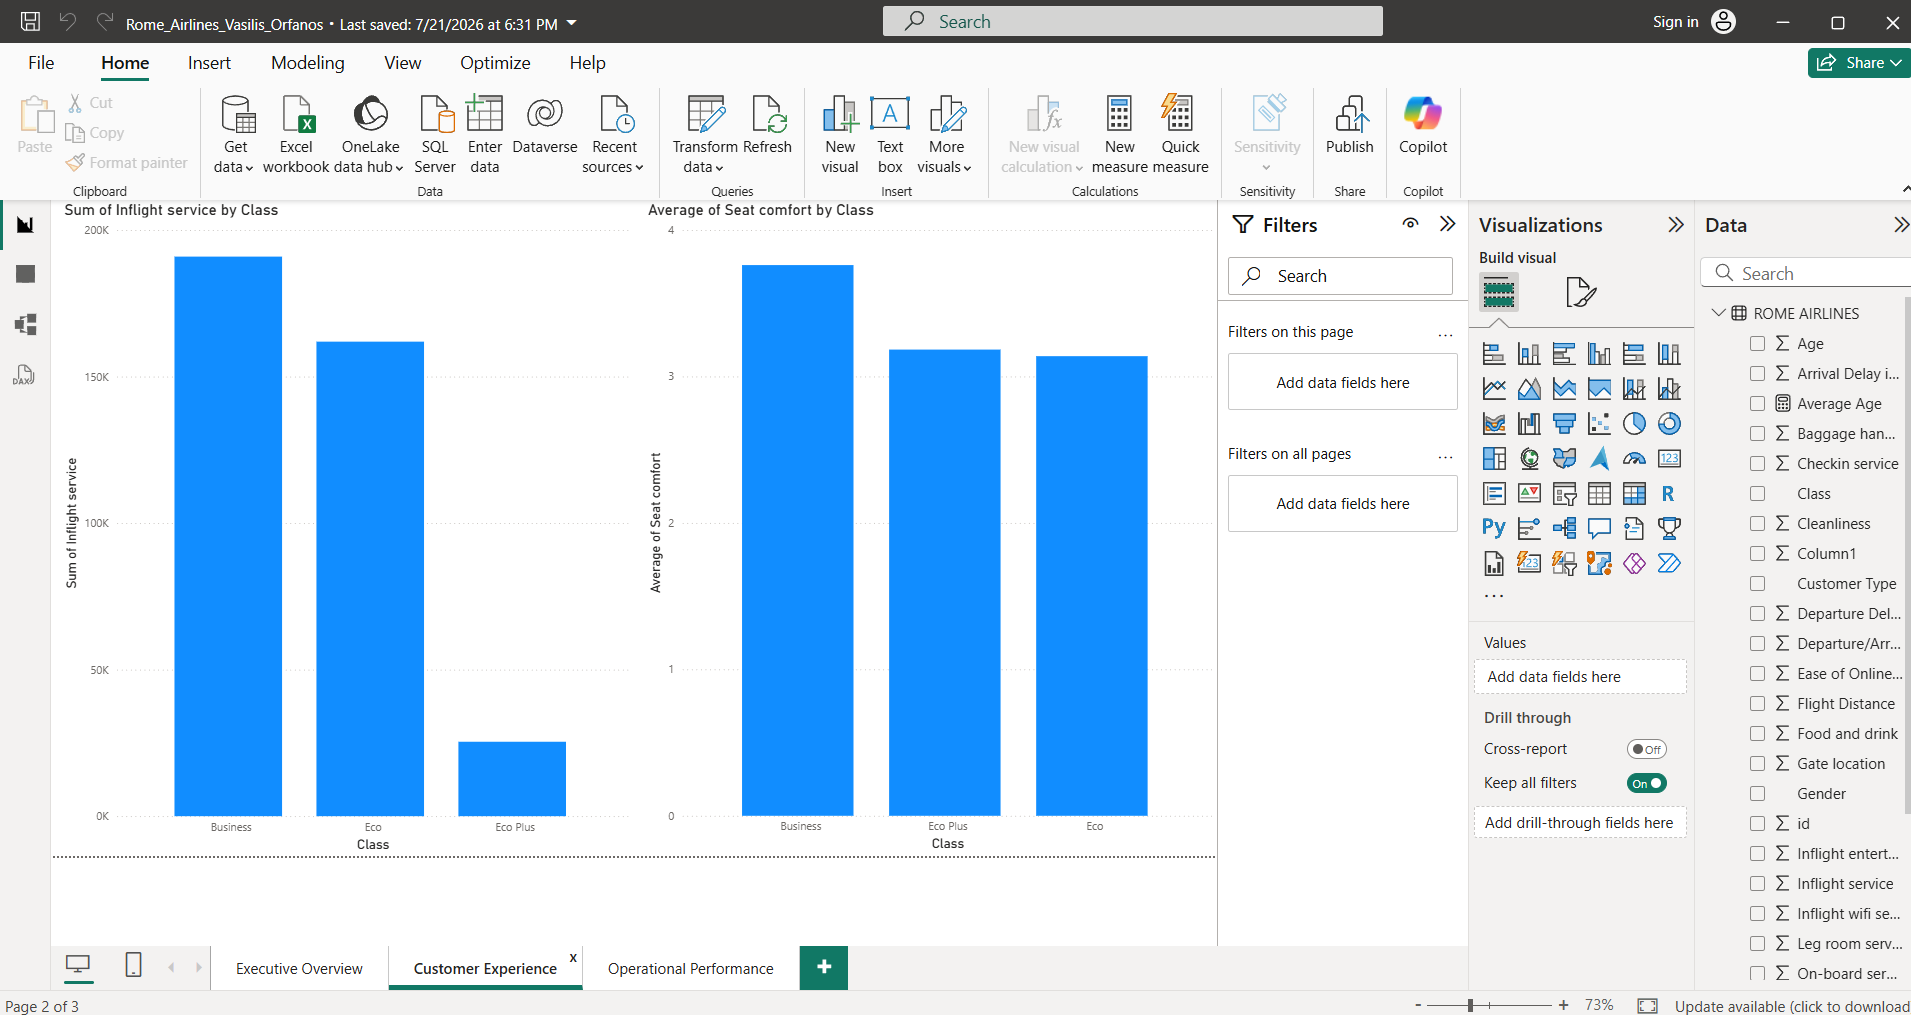

What the dashboard file says about the page in this screenshot:
{"tool":"powerbi","page":{"name":"Customer Experience","canvas":[1280,720],"ordinal":1},"visuals":[{"type":"clusteredColumnChart","fields":{"Category":["ROME AIRLINES.Class"],"Y":["Sum(ROME AIRLINES.Inflight service)"]},"box":[9.6,0,629.8,720.4],"z":0},{"type":"clusteredColumnChart","fields":{"Category":["ROME AIRLINES.Class"],"Y":["Avg(ROME AIRLINES.Seat comfort)"]},"box":[650,0,630,720],"z":1000}]}

Visuals, with their boxes on the page's 1280x720 design canvas (x1, y1, x2, y2). These are canvas units, not pixel positions in the 1911x1015 screenshot, which may show the page scaled, cropped or inside an application window:
clusteredColumnChart - ROME AIRLINES.Class x Sum(ROME AIRLINES.Inflight service): <box>10,0,639,720</box>
clusteredColumnChart - ROME AIRLINES.Class x Avg(ROME AIRLINES.Seat comfort): <box>650,0,1280,720</box>
